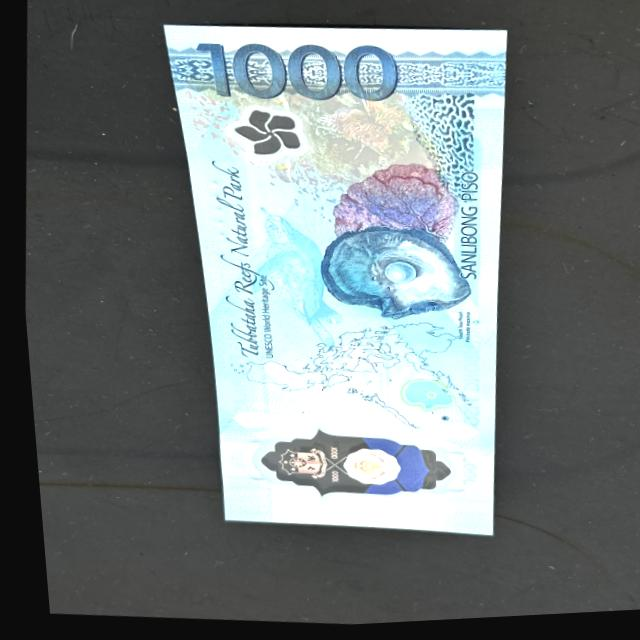clear_window: (253, 414, 452, 523)
sampaguita: (217, 107, 313, 174)
